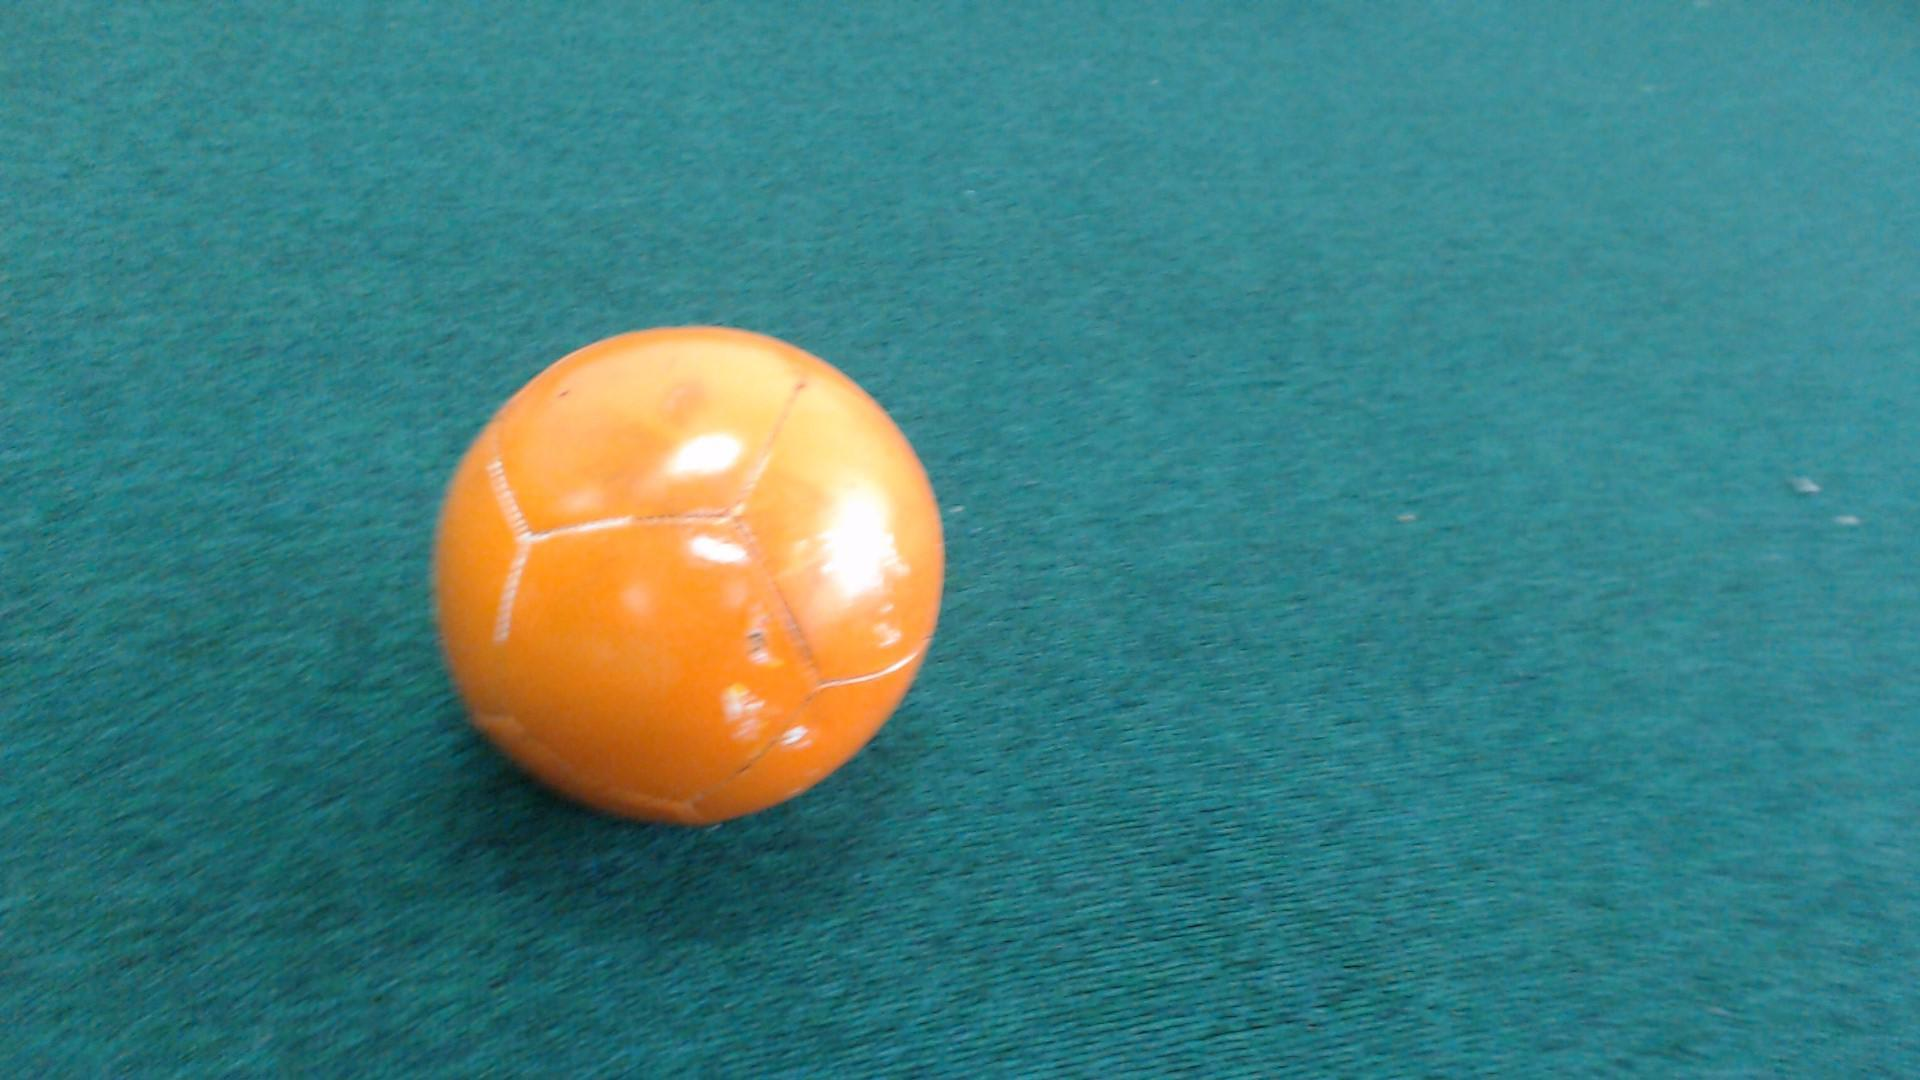bola: (407, 295, 978, 840)
